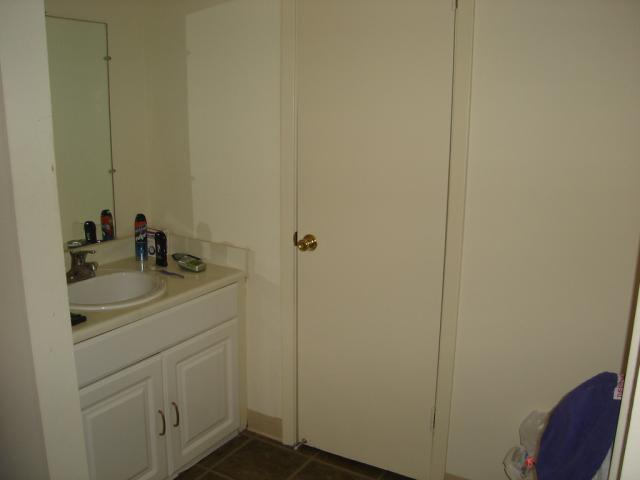Door-handle: (298, 234, 318, 252)
